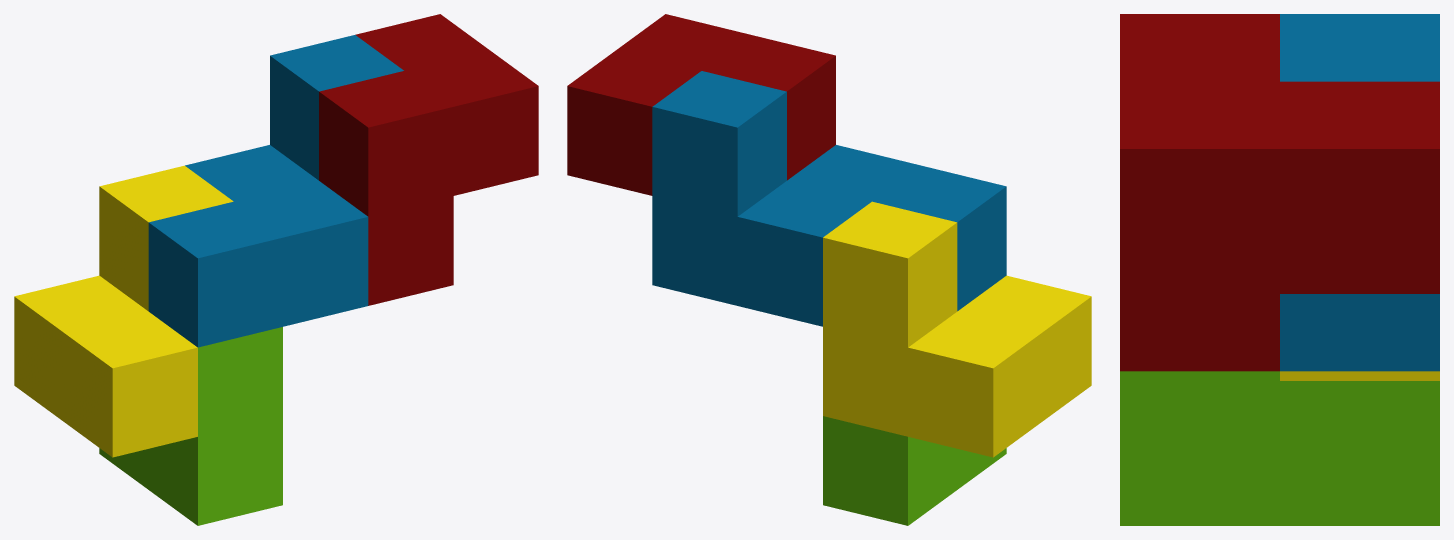
The picture shows the model from 3 angles, left to right: view 1: azimuth 30°, elevation 25°; view 2: azimuth 150°, elevation 25°; view 3: azimuth 270°, elevation 25°; orthographic projection. The views are drawn at different scales.
Visible parts, largest first — view 1: mergedBlocks(Clone); view 2: mergedBlocks(Clone); view 3: mergedBlocks(Clone).
Boxes of the visible parts, x1,y1,x2,y2 form: mergedBlocks(Clone): (14, 14, 538, 525); mergedBlocks(Clone): (567, 14, 1091, 525); mergedBlocks(Clone): (1120, 14, 1439, 525).
Size of the model in its own units: 5 by 4 by 2.
Materials: 4 (4 with a texture image).
